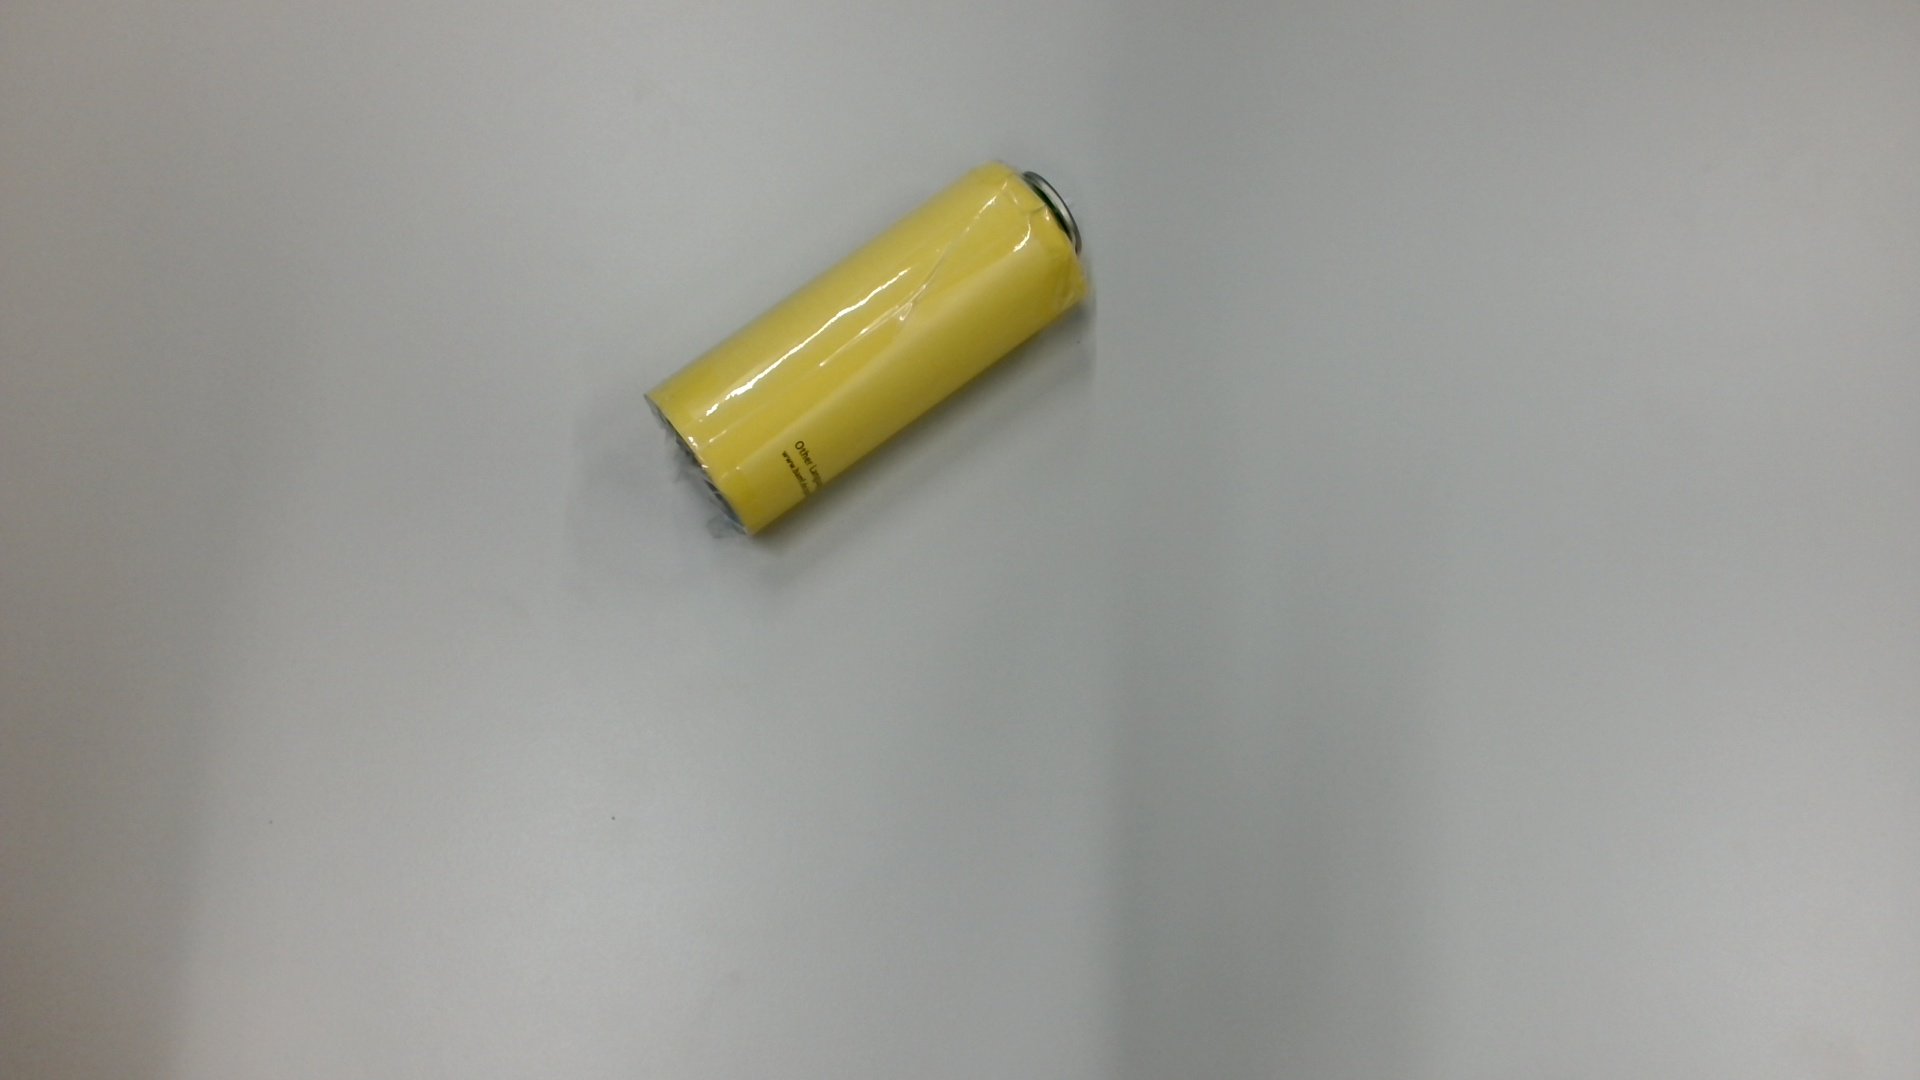Cylinder: (631, 150, 1116, 554)
